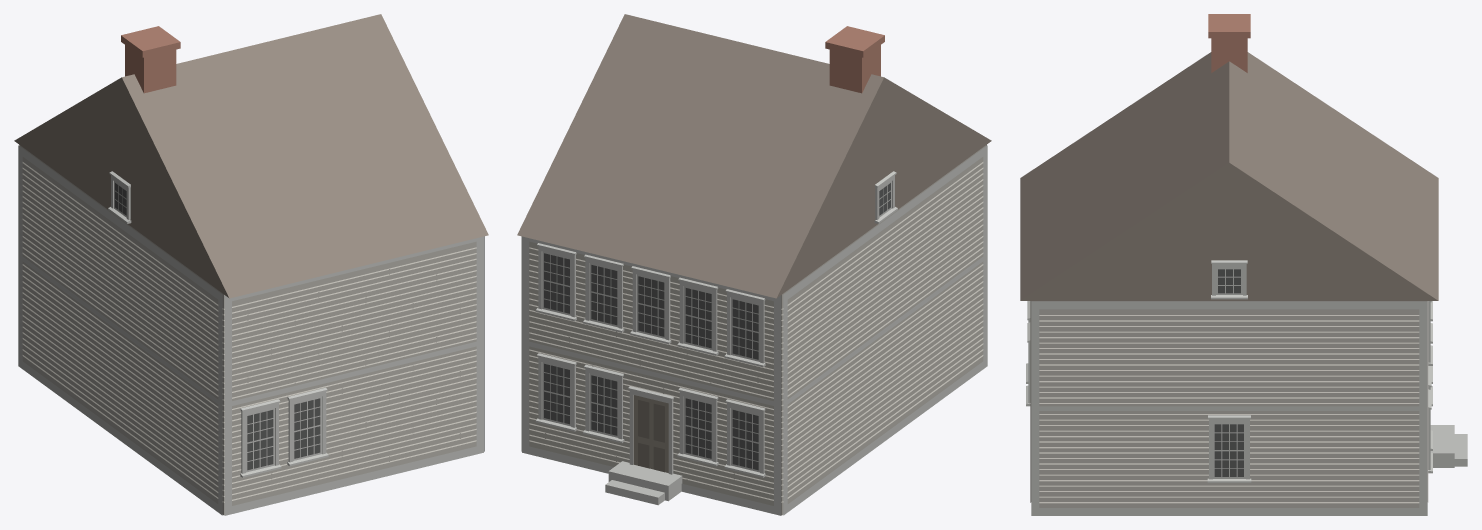
The model's file is recon_1835_west_019__inferred_1835.glb.
3 renders of one model, left to right at view 1: azimuth 30°, elevation 25°; view 2: azimuth 150°, elevation 25°; view 3: azimuth 270°, elevation 25°, orthographic. The views are drawn at different scales.
Visible parts, largest first — view 1: recon_1835_west_019__inferred_1835; view 2: recon_1835_west_019__inferred_1835; view 3: recon_1835_west_019__inferred_1835.
Part boxes in pixels (x1,y1,x2,y2): recon_1835_west_019__inferred_1835: (14, 14, 488, 515); recon_1835_west_019__inferred_1835: (517, 14, 991, 515); recon_1835_west_019__inferred_1835: (1020, 14, 1467, 515).
Size of the model in its own units: 6.93 by 9.75 by 10.31.
